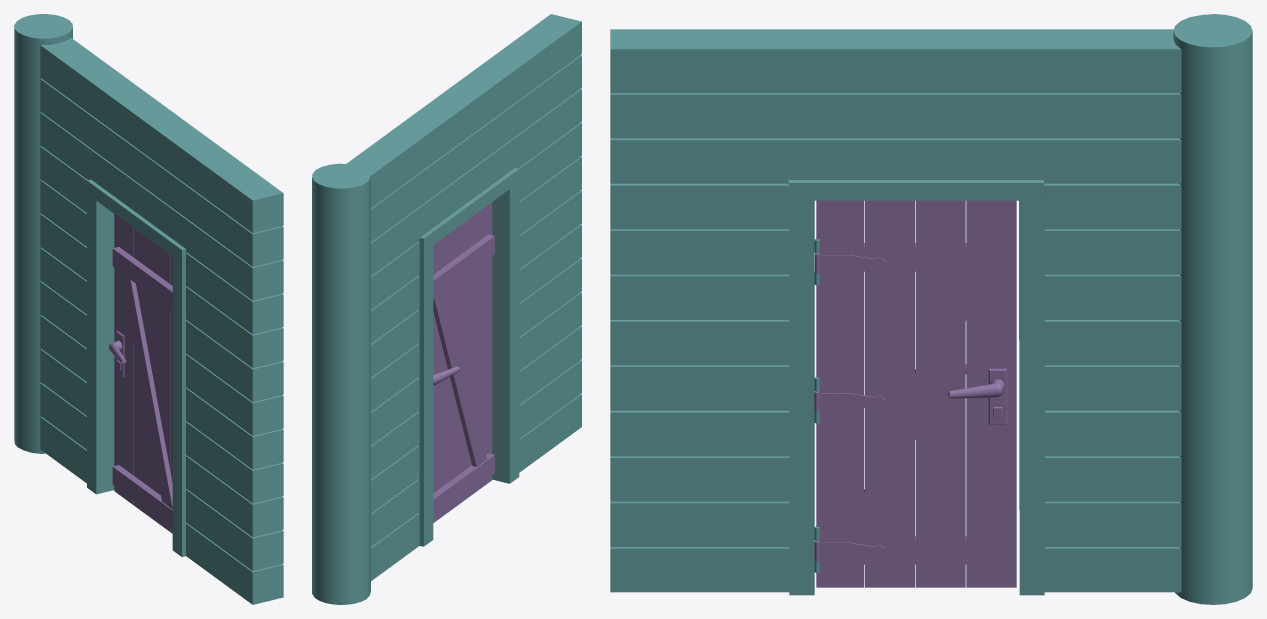
Rendered from pared_puerta.fbx.
3 renders of one model, left to right at view 1: azimuth 30°, elevation 25°; view 2: azimuth 150°, elevation 25°; view 3: azimuth 270°, elevation 25°, orthographic. The views are drawn at different scales.
Parts seen in each view (by area): view 1: pared2, pCube15; view 2: pared2, pCube15; view 3: pared2, pCube15.
Boxes of the visible parts, left/top/right/bottom form: pared2: left=14, top=14, right=283, bottom=604; pCube15: left=109, top=214, right=172, bottom=533; pared2: left=312, top=14, right=581, bottom=604; pCube15: left=433, top=202, right=494, bottom=522; pared2: left=610, top=14, right=1252, bottom=604; pCube15: left=814, top=200, right=1016, bottom=587.
Size of the model in its own units: 0.7457 by 5.78 by 6.03.
